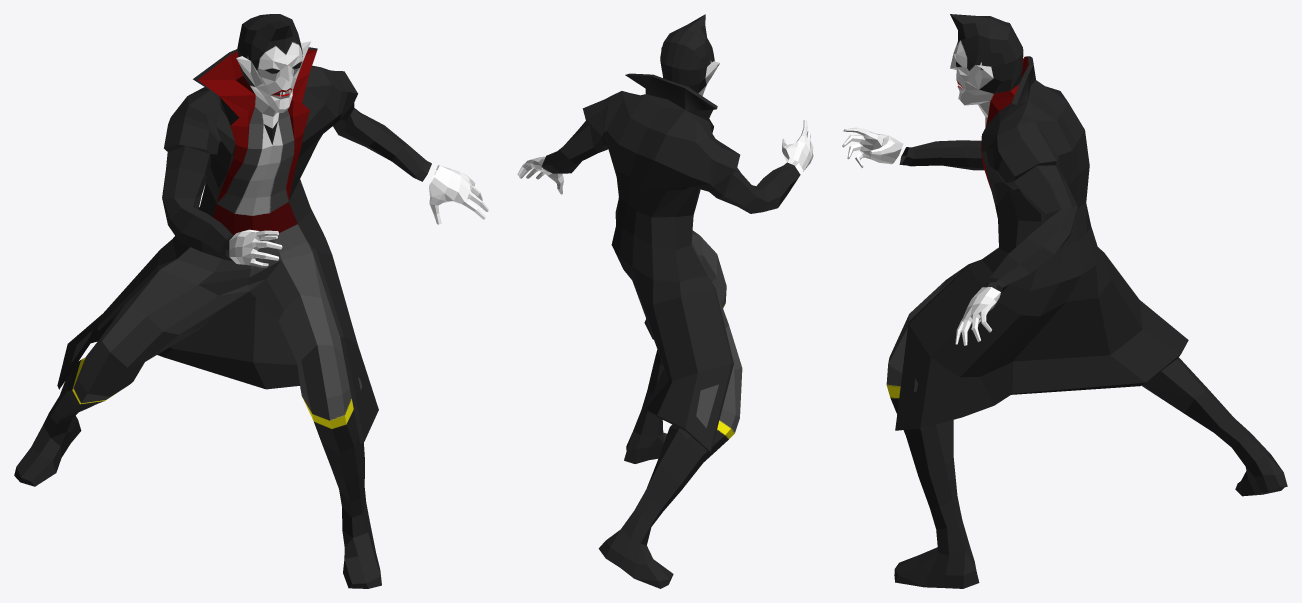
The model's file is VampireAttack(47).obj.
The picture shows the model from 3 angles, left to right: view 1: azimuth 30°, elevation 25°; view 2: azimuth 150°, elevation 25°; view 3: azimuth 270°, elevation 25°; orthographic projection. The views are drawn at different scales.
Visible parts, largest first — view 1: Plane002; view 2: Plane002; view 3: Plane002.
Part boxes in pixels (<box>): Plane002: <box>14,14,488,588</box>; Plane002: <box>517,14,813,588</box>; Plane002: <box>842,14,1287,588</box>.
Bounding box in the file's own units: 187 × 298 × 224.
